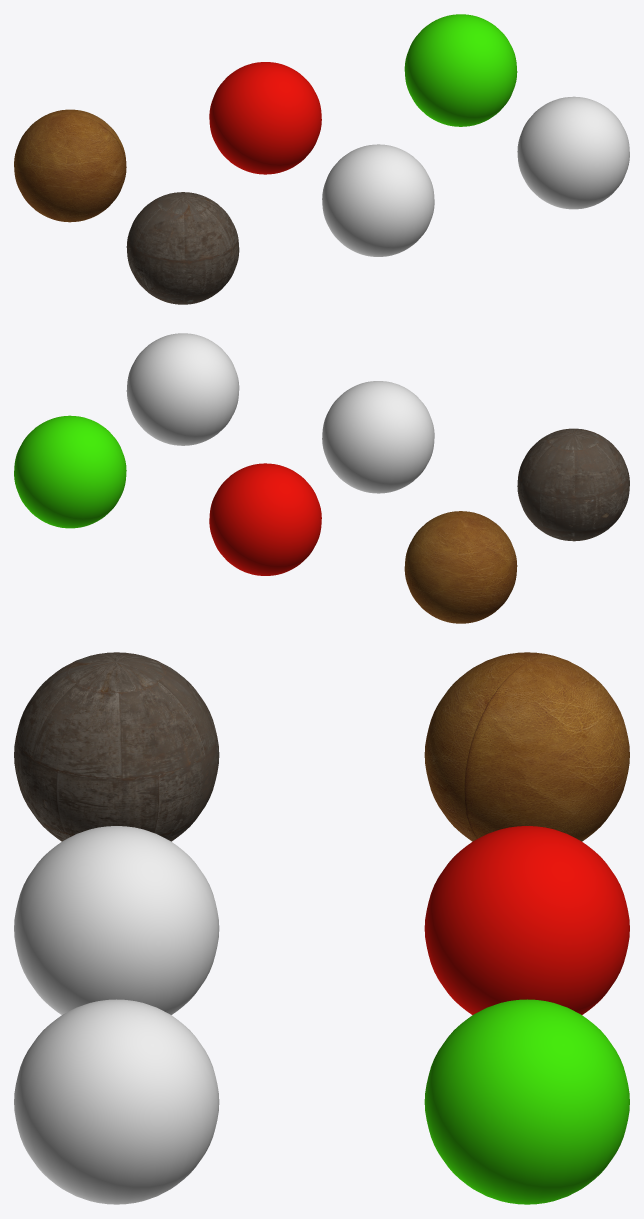
Rendered from pbr2.glb.
3 views of the same model, one above another, from view 1: azimuth 30°, elevation 25°; view 2: azimuth 150°, elevation 25°; view 3: azimuth 270°, elevation 25° (orthographic). The views are drawn at different scales.
Parts seen in each view (by area): view 1: Sphere.001, Sphere.002, Sphere.003, Sphere.004, Sphere.007, Sphere.008; view 2: Sphere.001, Sphere.002, Sphere.003, Sphere.004, Sphere.007, Sphere.008; view 3: Sphere.001, Sphere.002, Sphere.003, Sphere.004, Sphere.007, Sphere.008.
Part boxes in pixels (left/top/right/bottom): Sphere.001: left=517, top=96, right=629, bottom=209; Sphere.002: left=404, top=14, right=517, bottom=126; Sphere.003: left=209, top=62, right=321, bottom=174; Sphere.004: left=322, top=144, right=434, bottom=256; Sphere.007: left=126, top=192, right=239, bottom=304; Sphere.008: left=14, top=109, right=126, bottom=222; Sphere.001: left=126, top=333, right=239, bottom=445; Sphere.002: left=14, top=415, right=126, bottom=528; Sphere.003: left=209, top=463, right=321, bottom=575; Sphere.004: left=322, top=381, right=434, bottom=493; Sphere.007: left=517, top=428, right=629, bottom=541; Sphere.008: left=404, top=511, right=517, bottom=623; Sphere.001: left=14, top=999, right=219, bottom=1204; Sphere.002: left=424, top=999, right=629, bottom=1204; Sphere.003: left=424, top=826, right=629, bottom=1014; Sphere.004: left=14, top=826, right=219, bottom=1014; Sphere.007: left=14, top=652, right=219, bottom=841; Sphere.008: left=424, top=652, right=629, bottom=841.
Bounding box in the file's own units: 5 × 1 × 3.
Materials: 6 (2 with a texture image).
